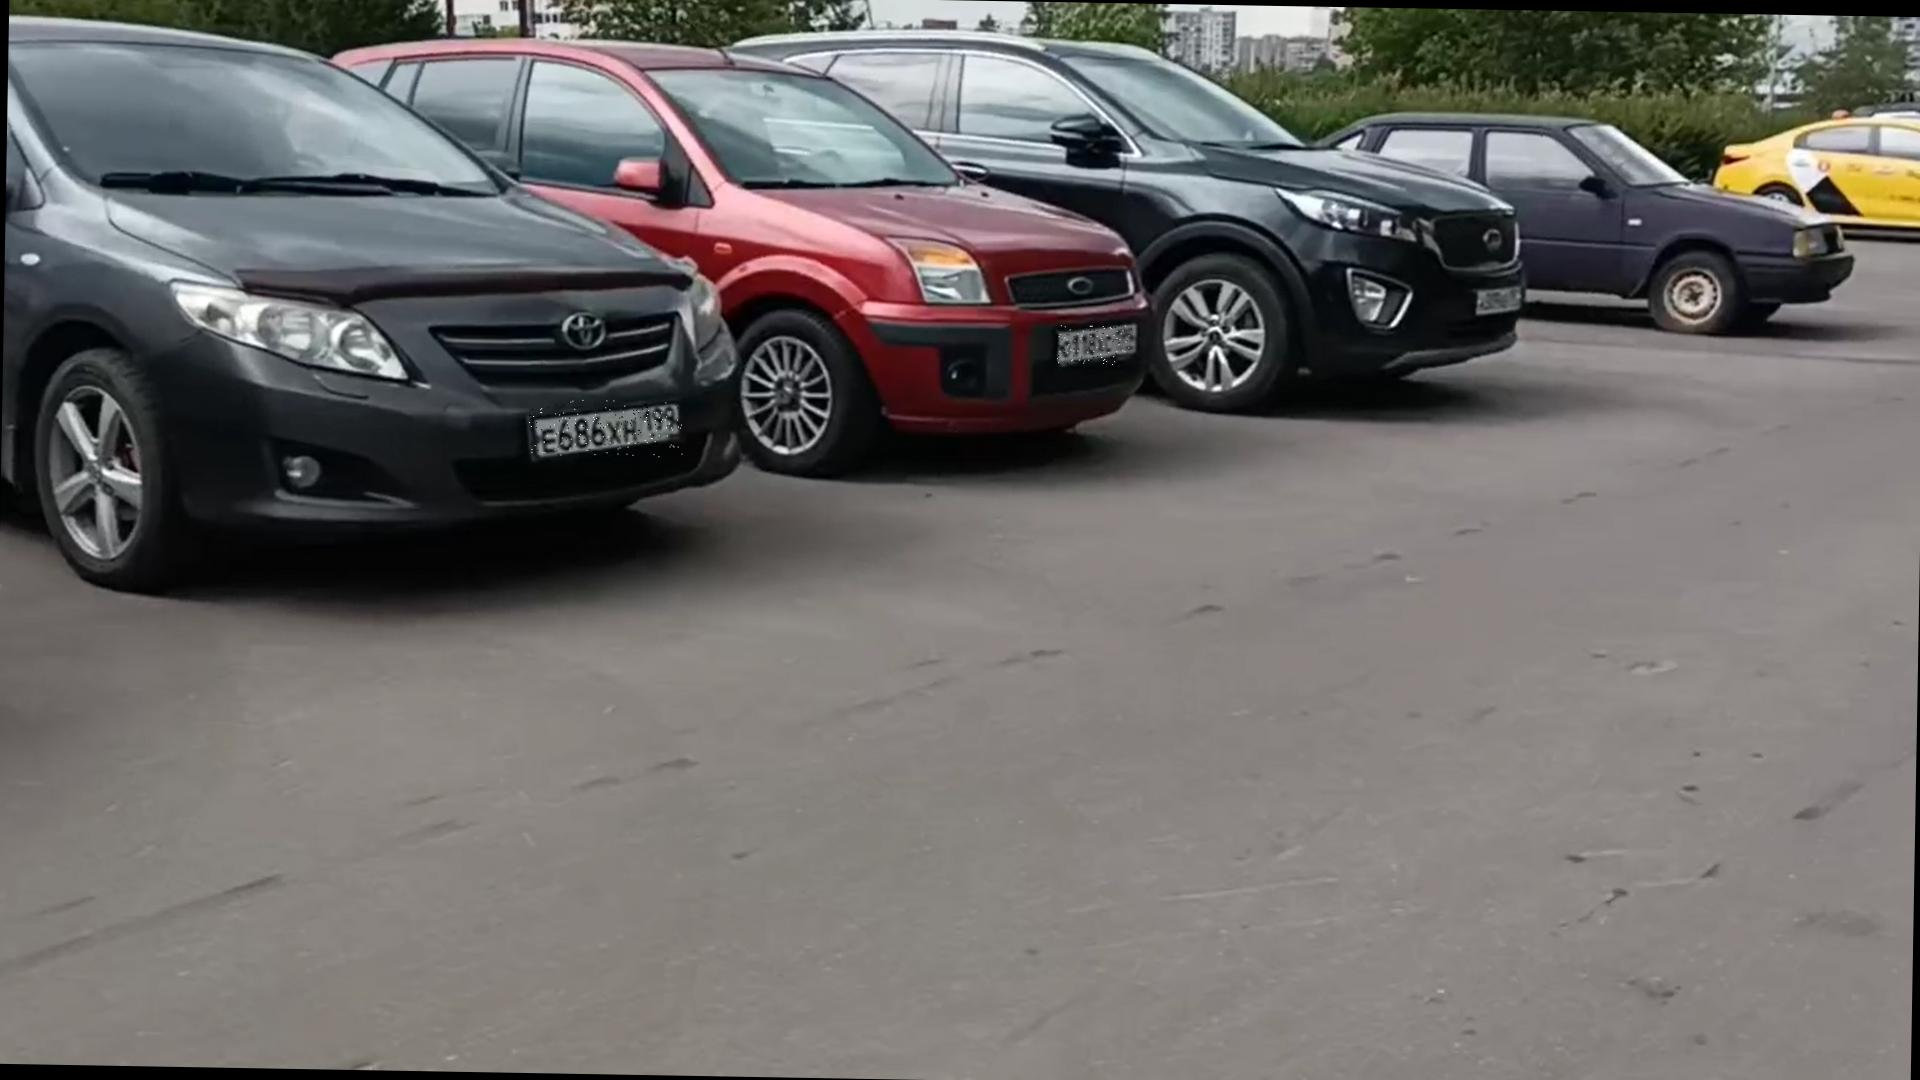plate: (531, 400, 687, 459), (1059, 325, 1134, 367)
